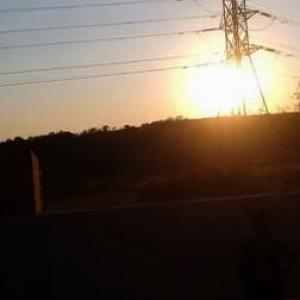follow: (234, 195, 300, 299)
